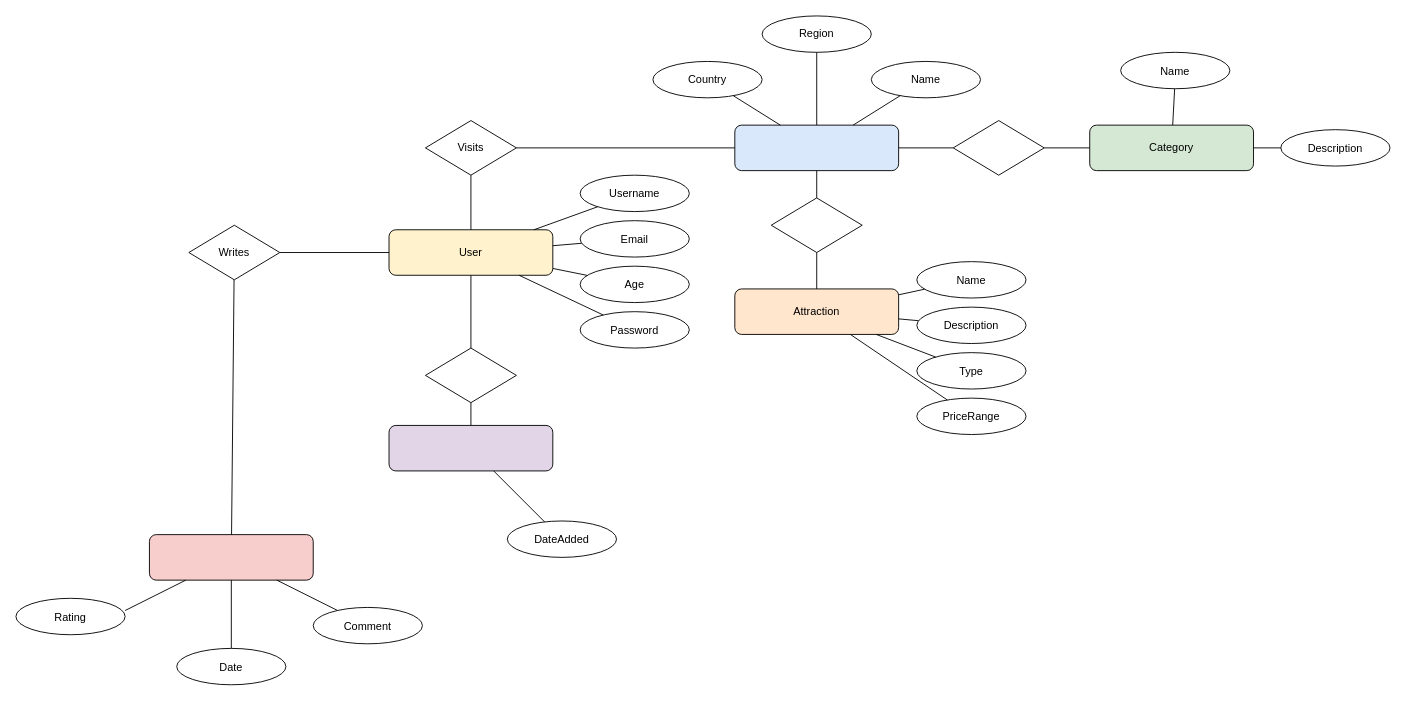
Some shapes in this 1406 by 701 pixel diagram are drawn without their labels. The centre of each missing label's shape, as x and y in pixels:
Belongs To: the point at 998,147
Favorite List: the point at 470,448
Favorites: the point at 470,375
Located In: the point at 816,225
Location: the point at 816,147
Review: the point at 231,557
